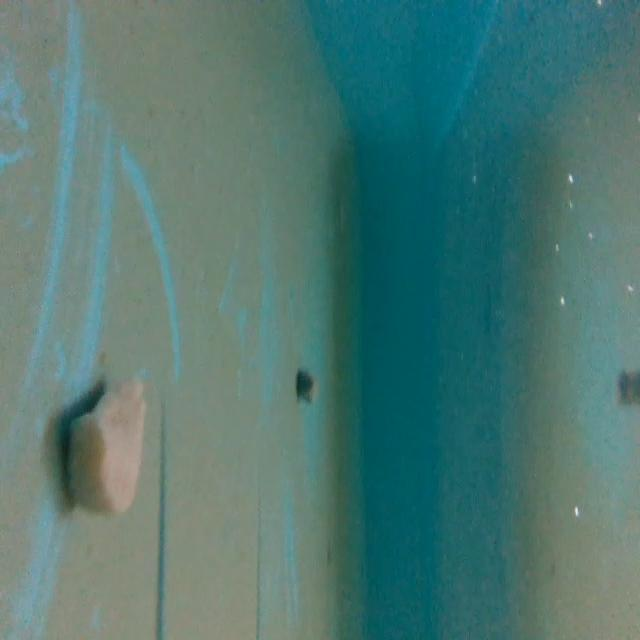rock: (54, 371, 153, 519), (290, 364, 318, 408)
